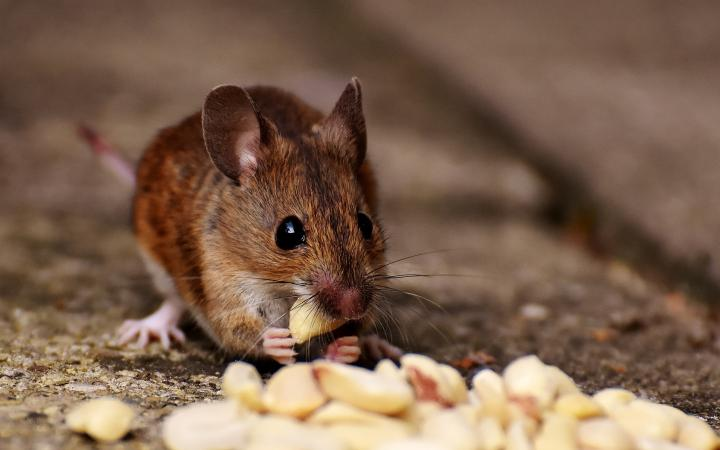mouse: (123, 63, 410, 381)
